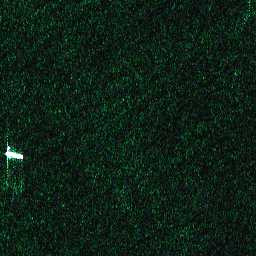ship: (4, 149, 25, 161)
